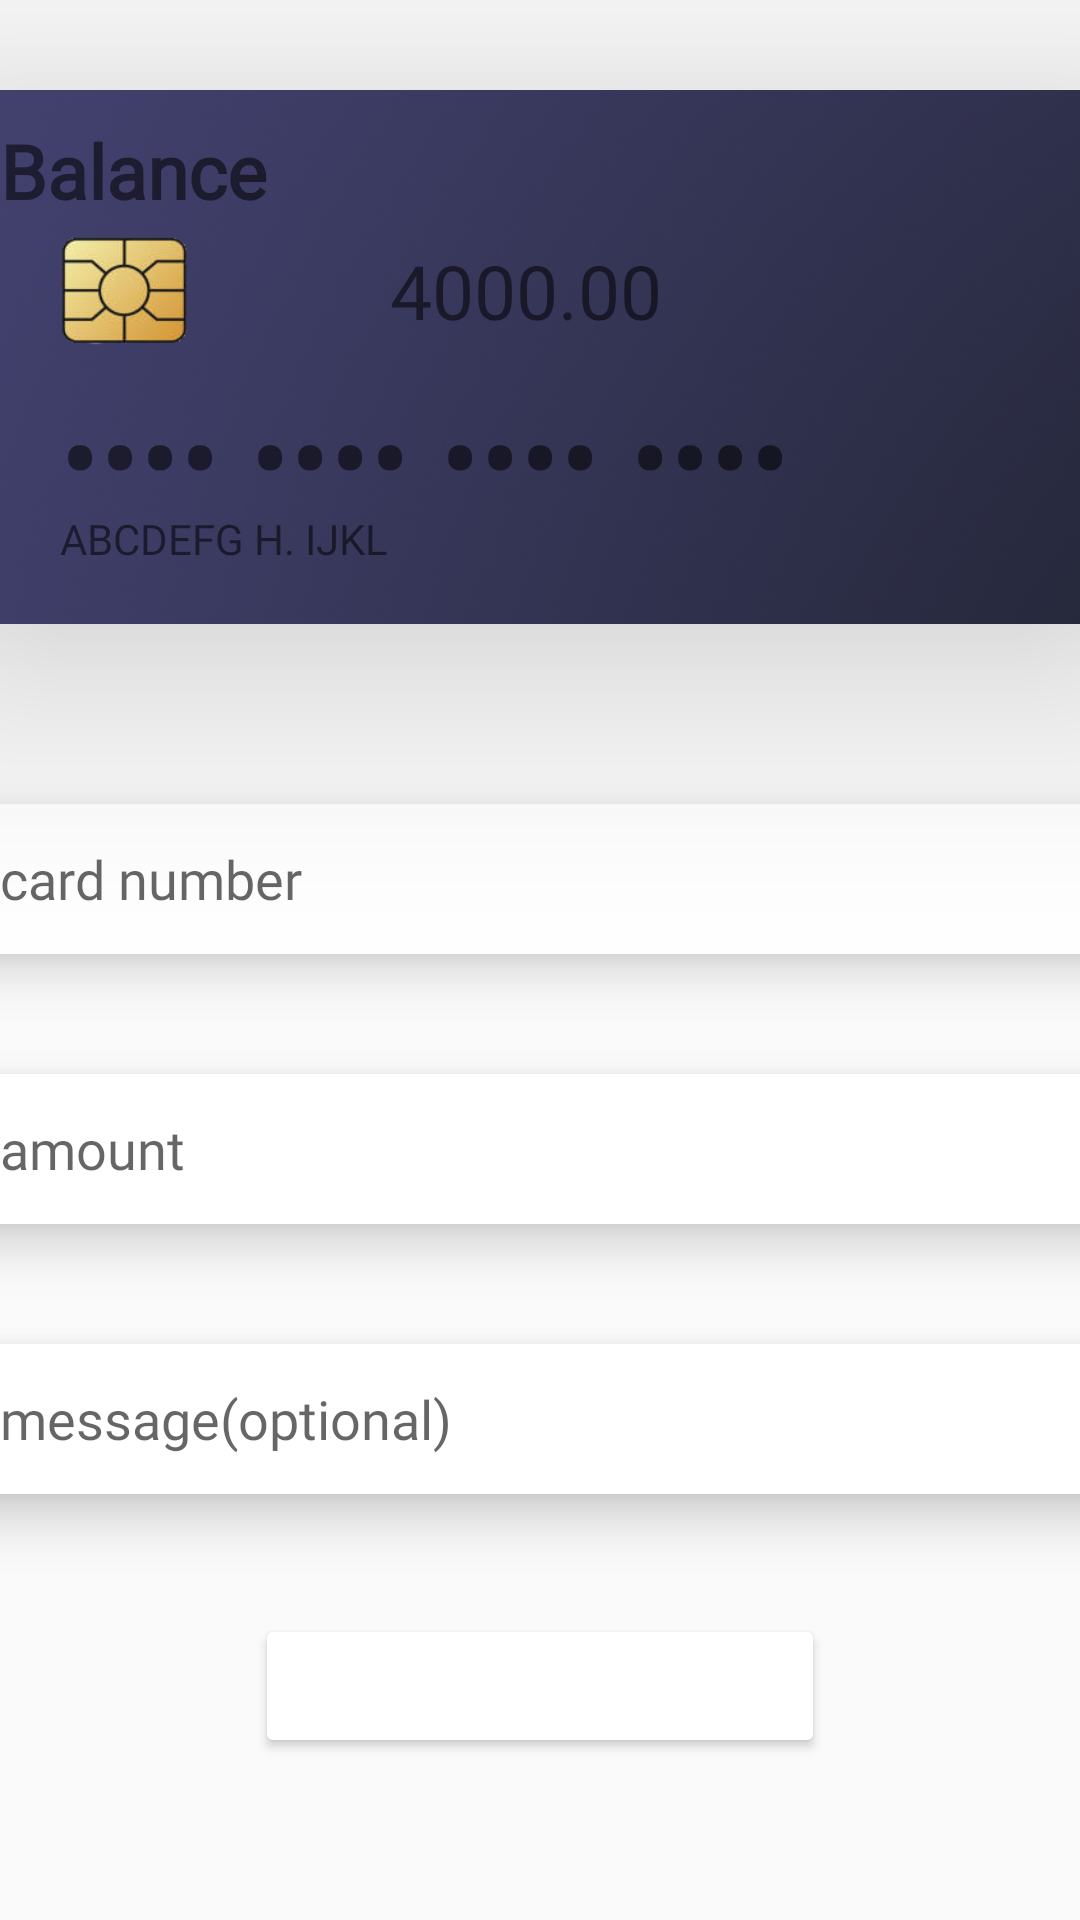

Point at icon controls on the screen. Image size 1080×1920, points as [x,y].
sim: [124,291]
